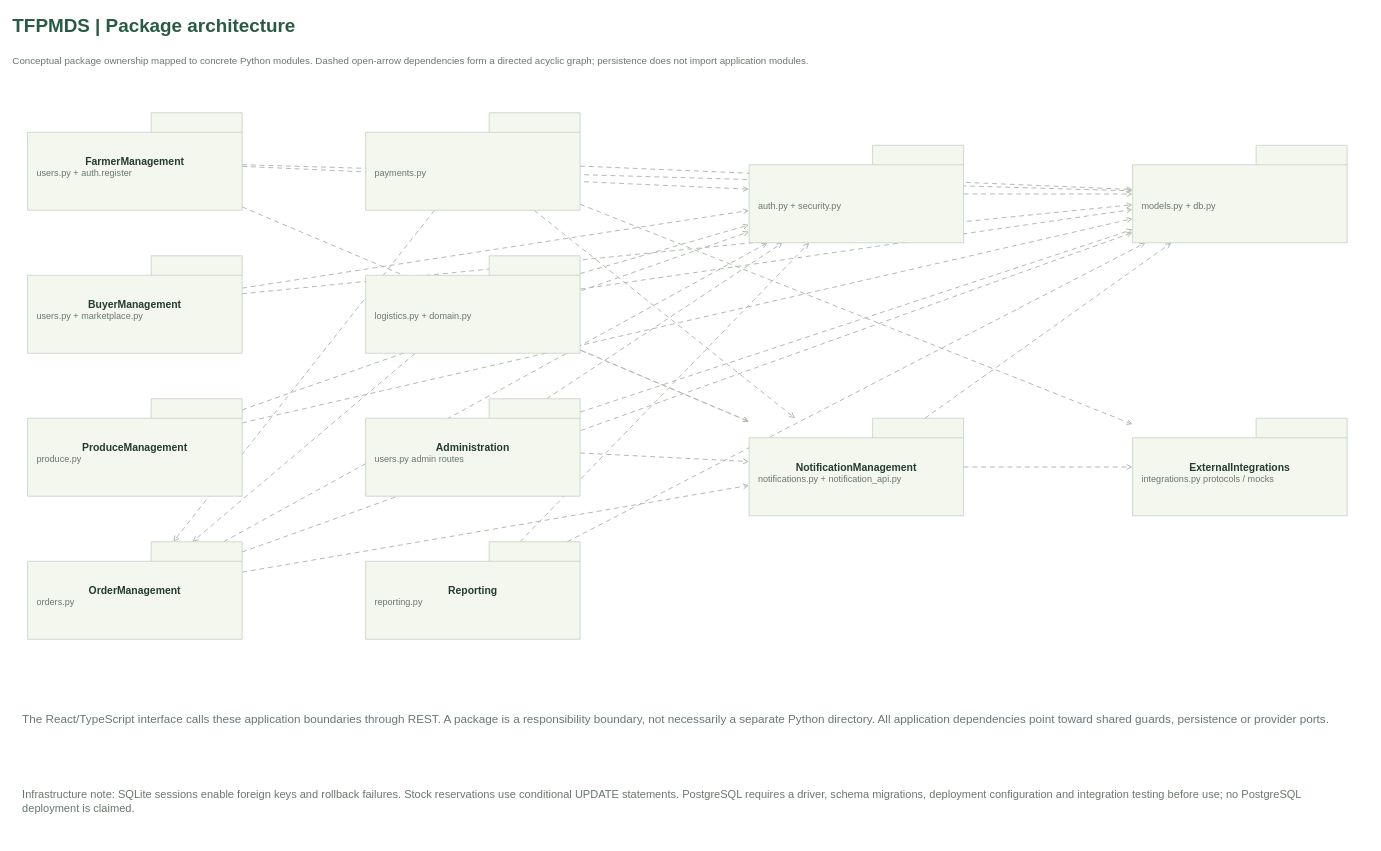
Image size: 1381x851. Some labels were removed from this diagram. The box of each missing label's shape, as (x1, y1, x2, y2) in pixels:
Authentication: (748, 145, 964, 243)
LogisticsManagement: (365, 255, 580, 353)
PaymentManagement: (365, 112, 580, 210)
Persistence: (1132, 145, 1347, 243)
